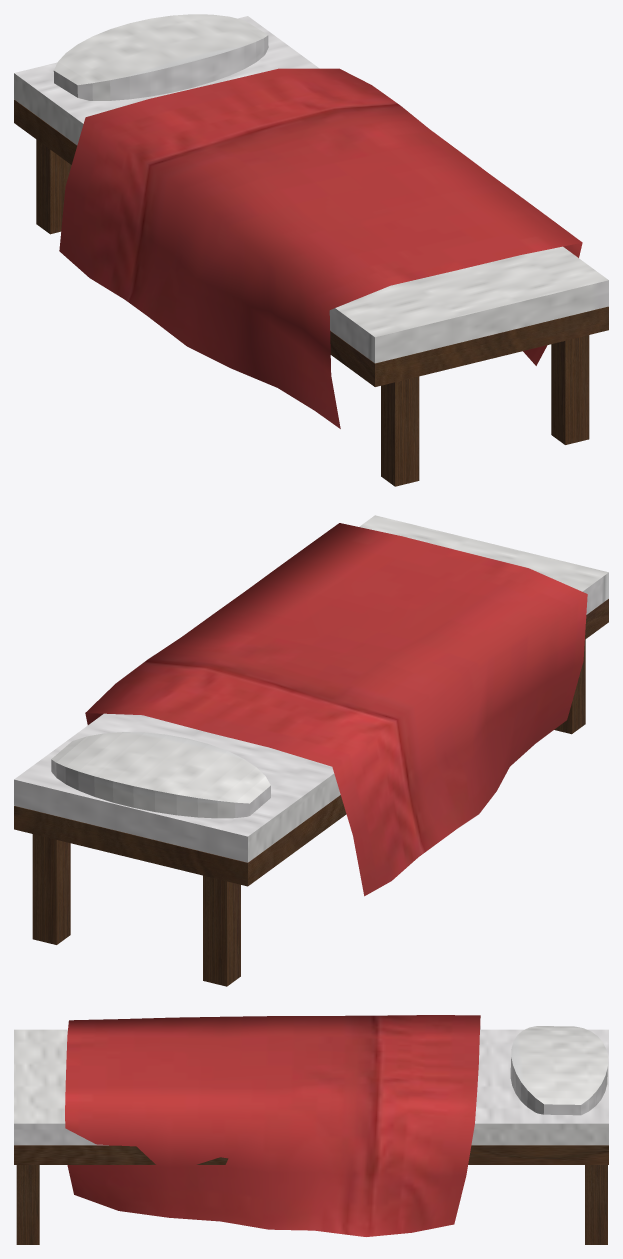
File: Bed.fbx
3 renders of one model, top to bottom at view 1: azimuth 30°, elevation 25°; view 2: azimuth 150°, elevation 25°; view 3: azimuth 270°, elevation 25°, orthographic. The views are drawn at different scales.
Visible parts, largest first — view 1: Plane.001, Sphere, Cube.001; view 2: Plane.001, Sphere, Cube.001; view 3: Plane.001, Sphere, Cube.001.
Part boxes in pixels (x1,y1,x2,y2): Plane.001: [59, 68, 582, 428]; Sphere: [14, 14, 608, 363]; Cube.001: [14, 99, 608, 486]; Plane.001: [85, 523, 587, 896]; Sphere: [14, 515, 608, 862]; Cube.001: [14, 599, 608, 986]; Plane.001: [65, 1015, 480, 1236]; Sphere: [14, 1026, 608, 1145]; Cube.001: [14, 1145, 608, 1244].
Size of the model in its own units: 102 by 55.47 by 200.
